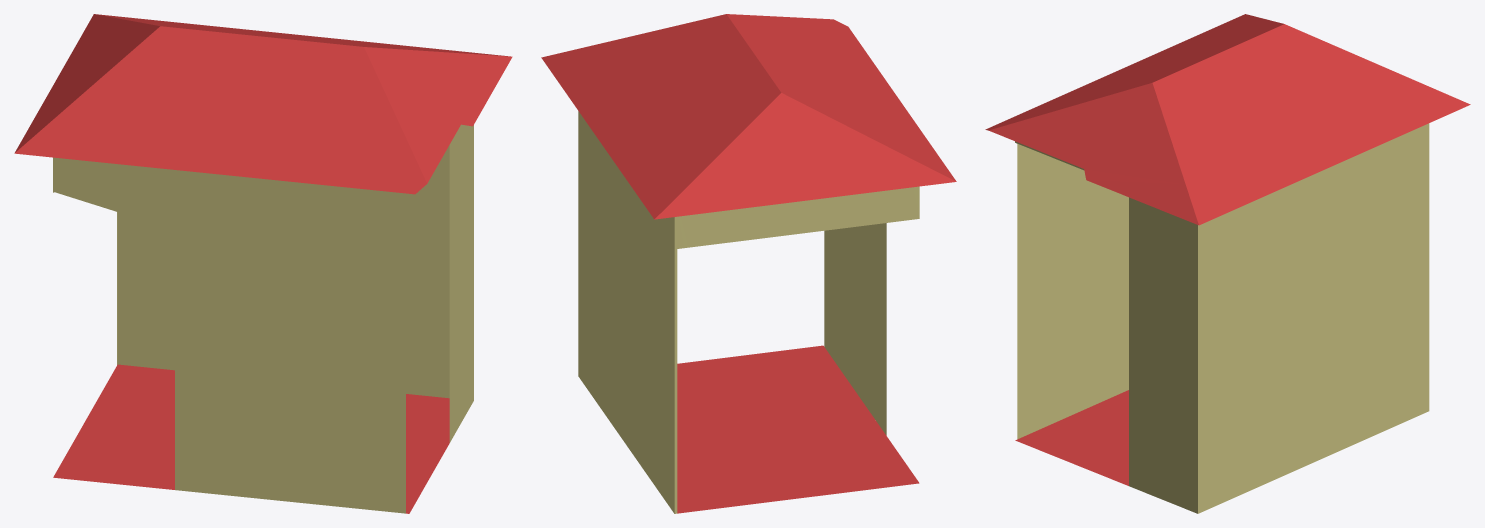
3 views of the same model, side by side, from view 1: azimuth 30°, elevation 25°; view 2: azimuth 150°, elevation 25°; view 3: azimuth 270°, elevation 25° (orthographic). The views are drawn at different scales.
Parts seen in each view (by area): view 1: group_5, group_3, group_6, group_4; view 2: group_3, group_5, group_6; view 3: group_5, group_3, group_6, group_4.
Part boxes in pixels (x1,y1,x2,y2): group_5: [53, 124, 473, 513]; group_3: [14, 14, 512, 194]; group_6: [53, 364, 449, 513]; group_4: [187, 60, 472, 192]; group_3: [541, 14, 956, 219]; group_5: [578, 111, 919, 513]; group_6: [677, 345, 919, 513]; group_5: [1015, 123, 1429, 513]; group_3: [985, 14, 1470, 225]; group_6: [1015, 390, 1128, 485]; group_4: [988, 120, 1176, 183].
Size of the model in its own units: 17 by 16.51 by 13.9.
